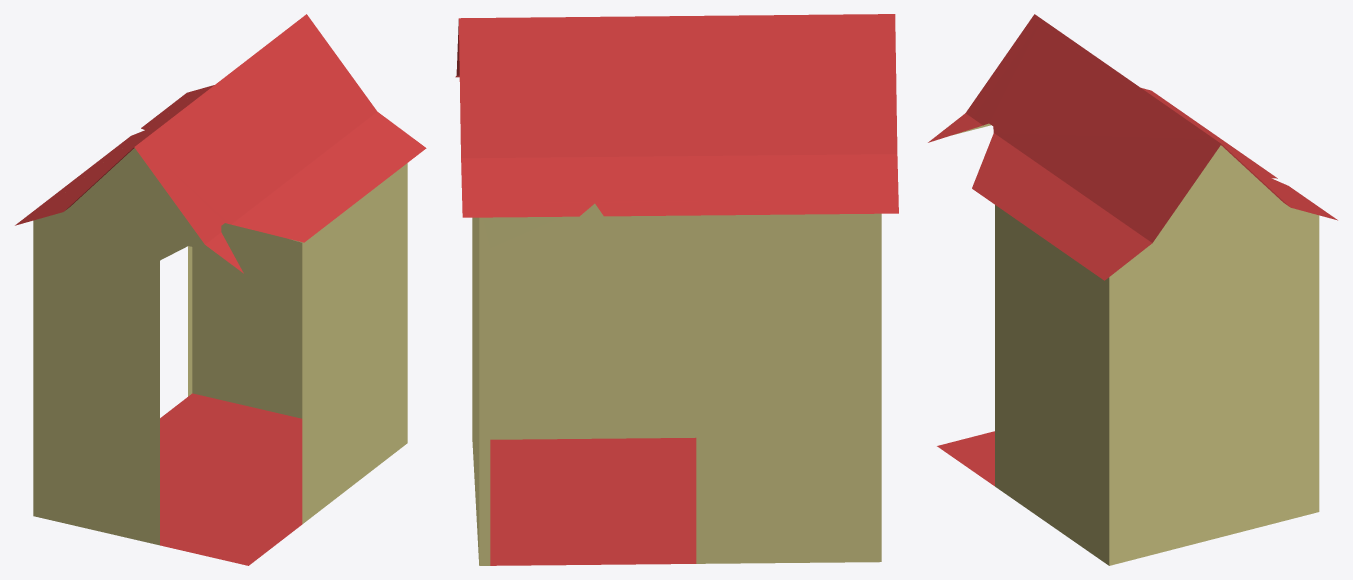
The picture shows the model from 3 angles, left to right: view 1: azimuth 30°, elevation 25°; view 2: azimuth 150°, elevation 25°; view 3: azimuth 270°, elevation 25°; orthographic projection. The views are drawn at different scales.
Bounding box in the file's own units: 16.06 × 14.69 × 15.76.
